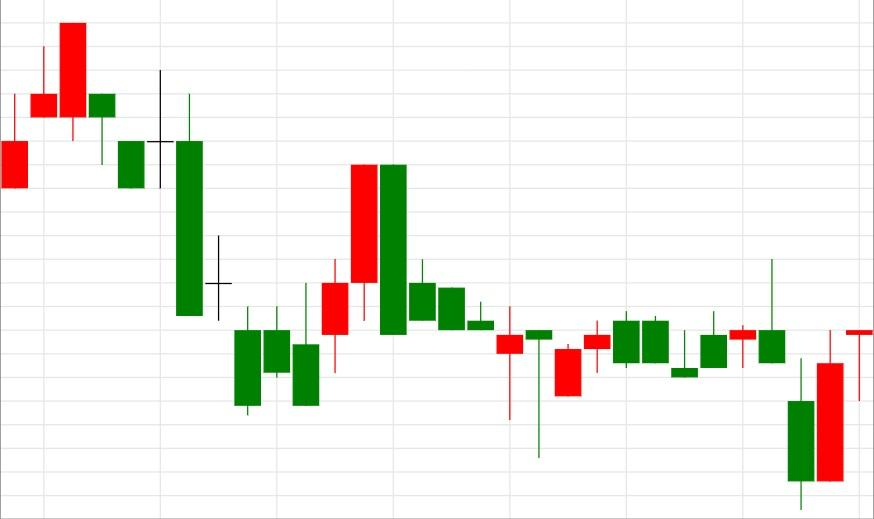bearish_engulfing_fall: (234, 163, 407, 415)
shooting_star_fall: (670, 258, 786, 378)
